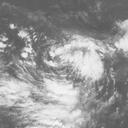cyclone: (52, 33, 104, 80)
